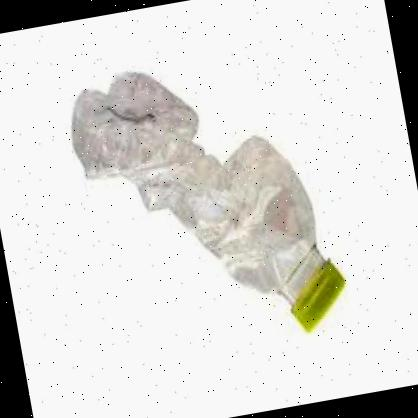bottle: (58, 38, 360, 372)
cap: (276, 247, 364, 340)
